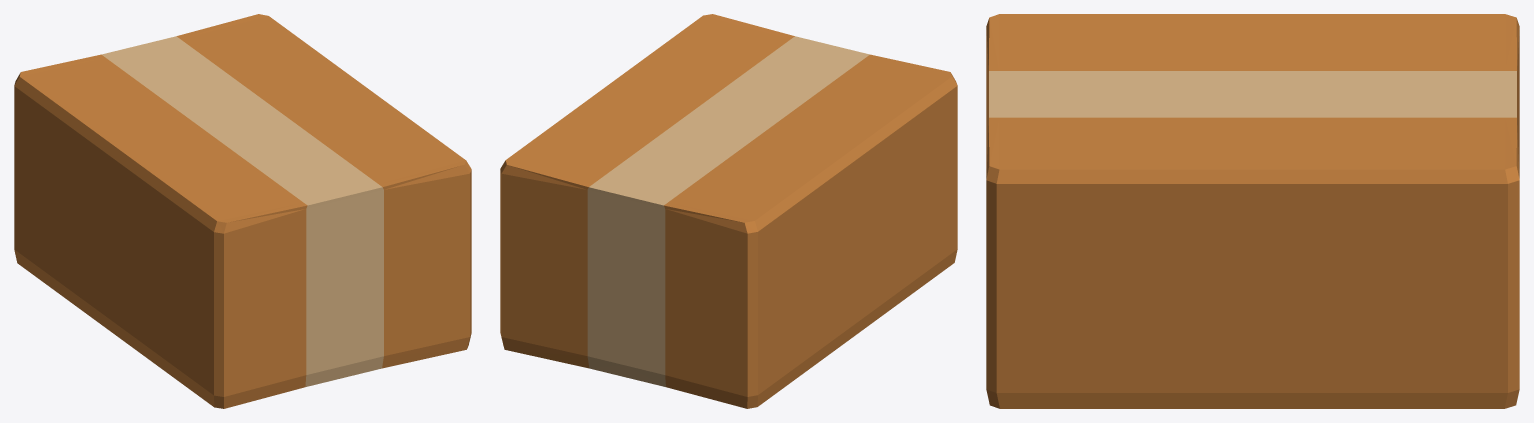
Rendered from Prop_Junk_Cardboard_Box_04.FBX.
The picture shows the model from 3 angles, left to right: view 1: azimuth 30°, elevation 25°; view 2: azimuth 150°, elevation 25°; view 3: azimuth 270°, elevation 25°; orthographic projection. The views are drawn at different scales.
Visible parts, largest first — view 1: Prop_Junk_Cardboard_Box_04; view 2: Prop_Junk_Cardboard_Box_04; view 3: Prop_Junk_Cardboard_Box_04.
Part boxes in pixels (x1,y1,x2,y2): Prop_Junk_Cardboard_Box_04: (14, 14, 471, 408); Prop_Junk_Cardboard_Box_04: (500, 14, 957, 408); Prop_Junk_Cardboard_Box_04: (986, 14, 1519, 408).
Bounding box in the file's own units: 450 × 310 × 630.
